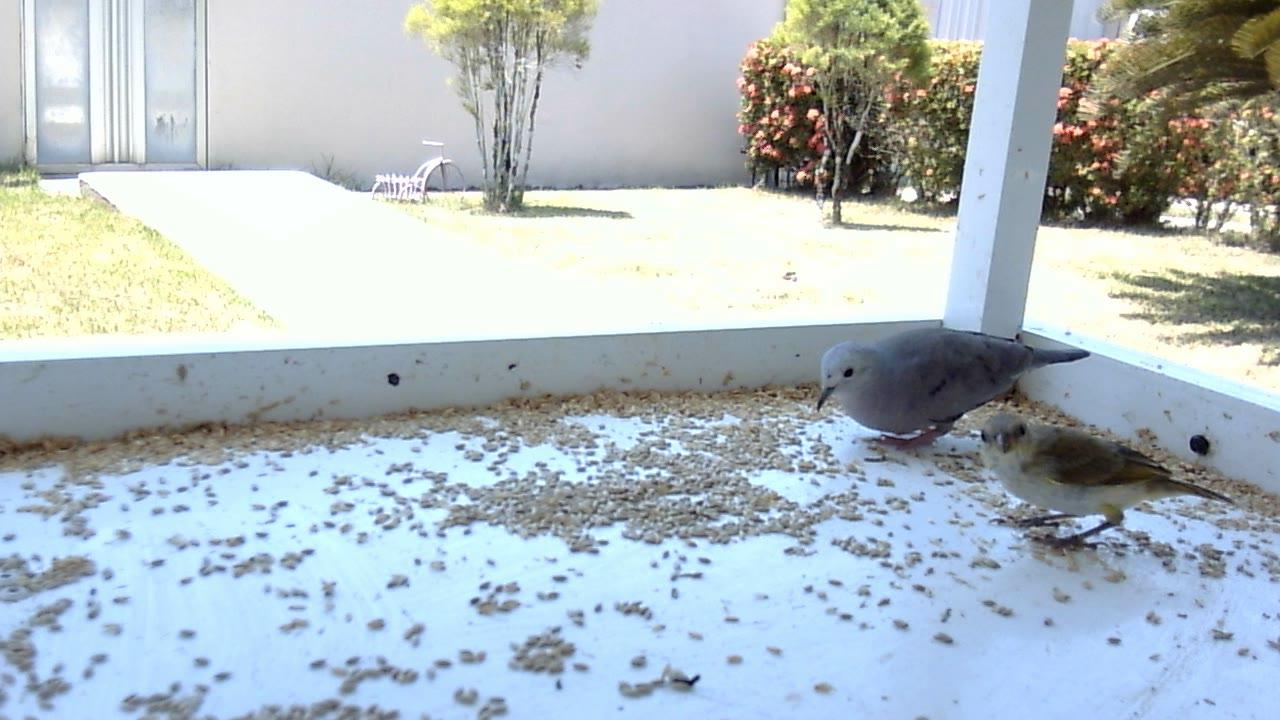canario_do_amazonas: (977, 411, 1238, 555)
rolinha: (815, 325, 1093, 459)
